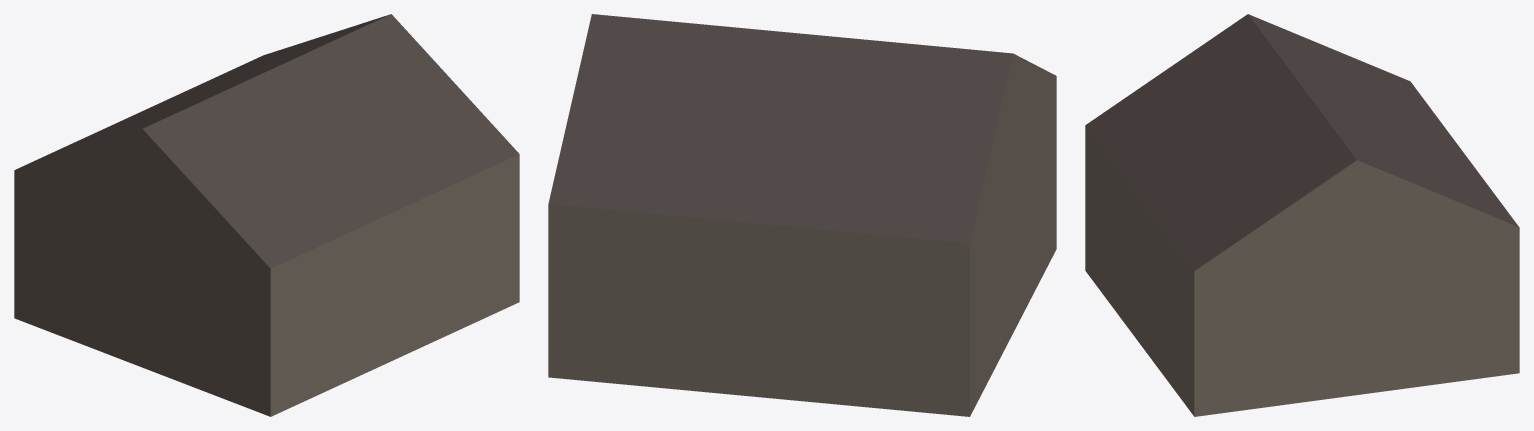
3 renders of one model, left to right at view 1: azimuth 30°, elevation 25°; view 2: azimuth 150°, elevation 25°; view 3: azimuth 270°, elevation 25°, orthographic. The views are drawn at different scales.
Parts seen in each view (by area): view 1: HP-w859447887; view 2: HP-w859447887; view 3: HP-w859447887.
Boxes of the visible parts, x1,y1,x2,y2 form: HP-w859447887: (14, 14, 519, 416); HP-w859447887: (548, 14, 1056, 416); HP-w859447887: (1085, 14, 1519, 416).
Size of the model in its own units: 16.77 by 9.68 by 16.2.
